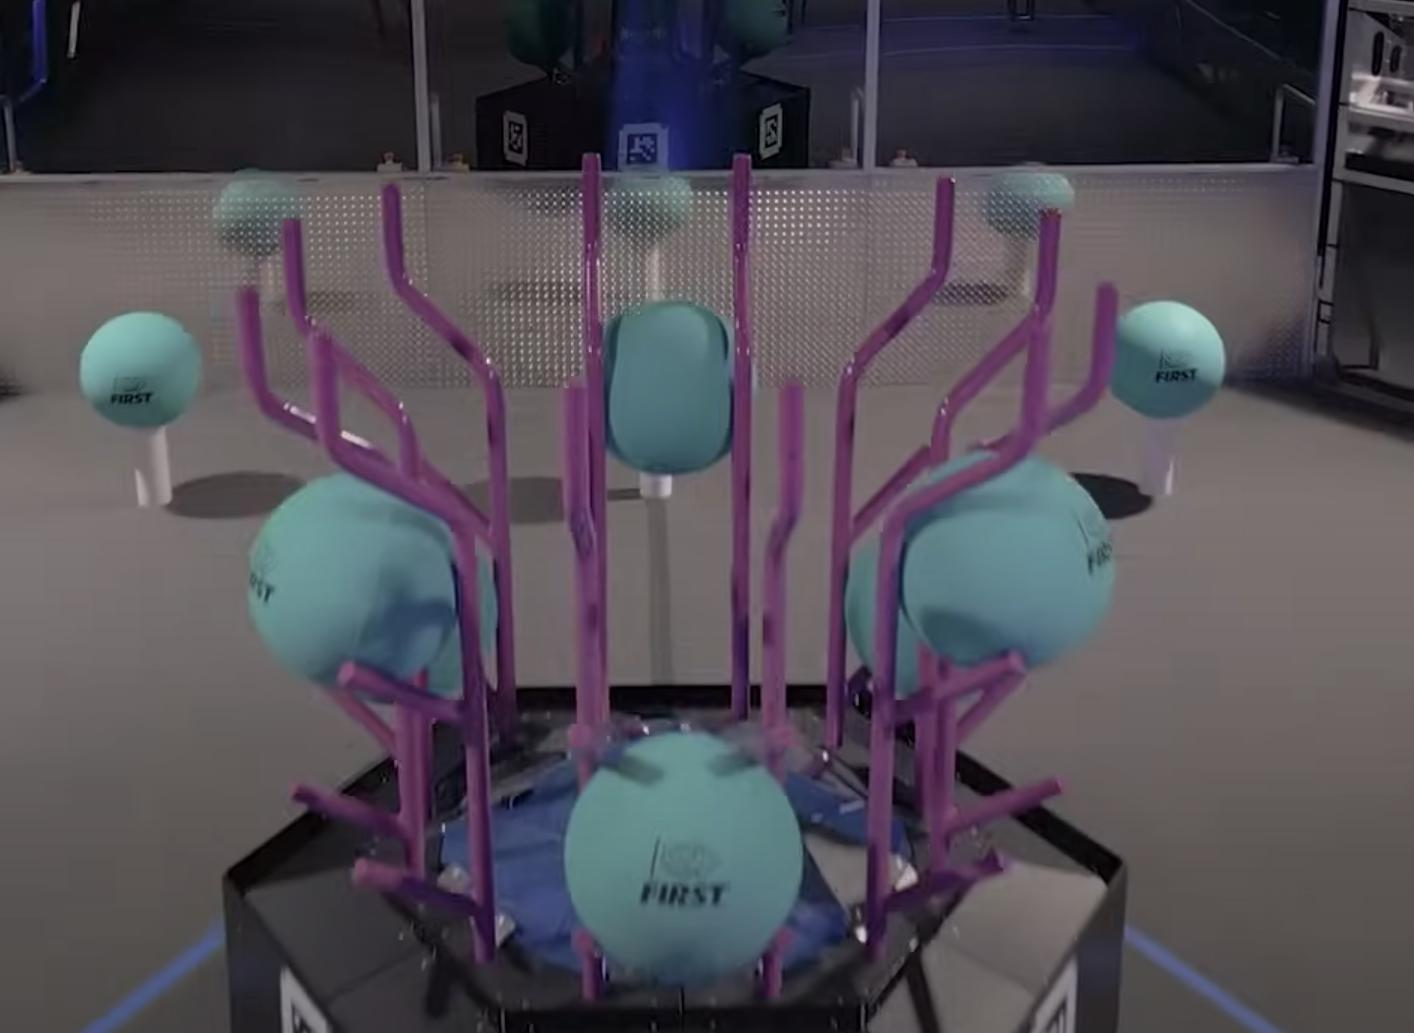algae: (564, 731, 801, 985), (244, 469, 500, 703), (895, 449, 1116, 671), (598, 303, 756, 473), (79, 311, 202, 429), (1107, 301, 1226, 419), (846, 534, 920, 695)
coral: (130, 428, 173, 512), (1144, 420, 1181, 497), (640, 473, 673, 497)
